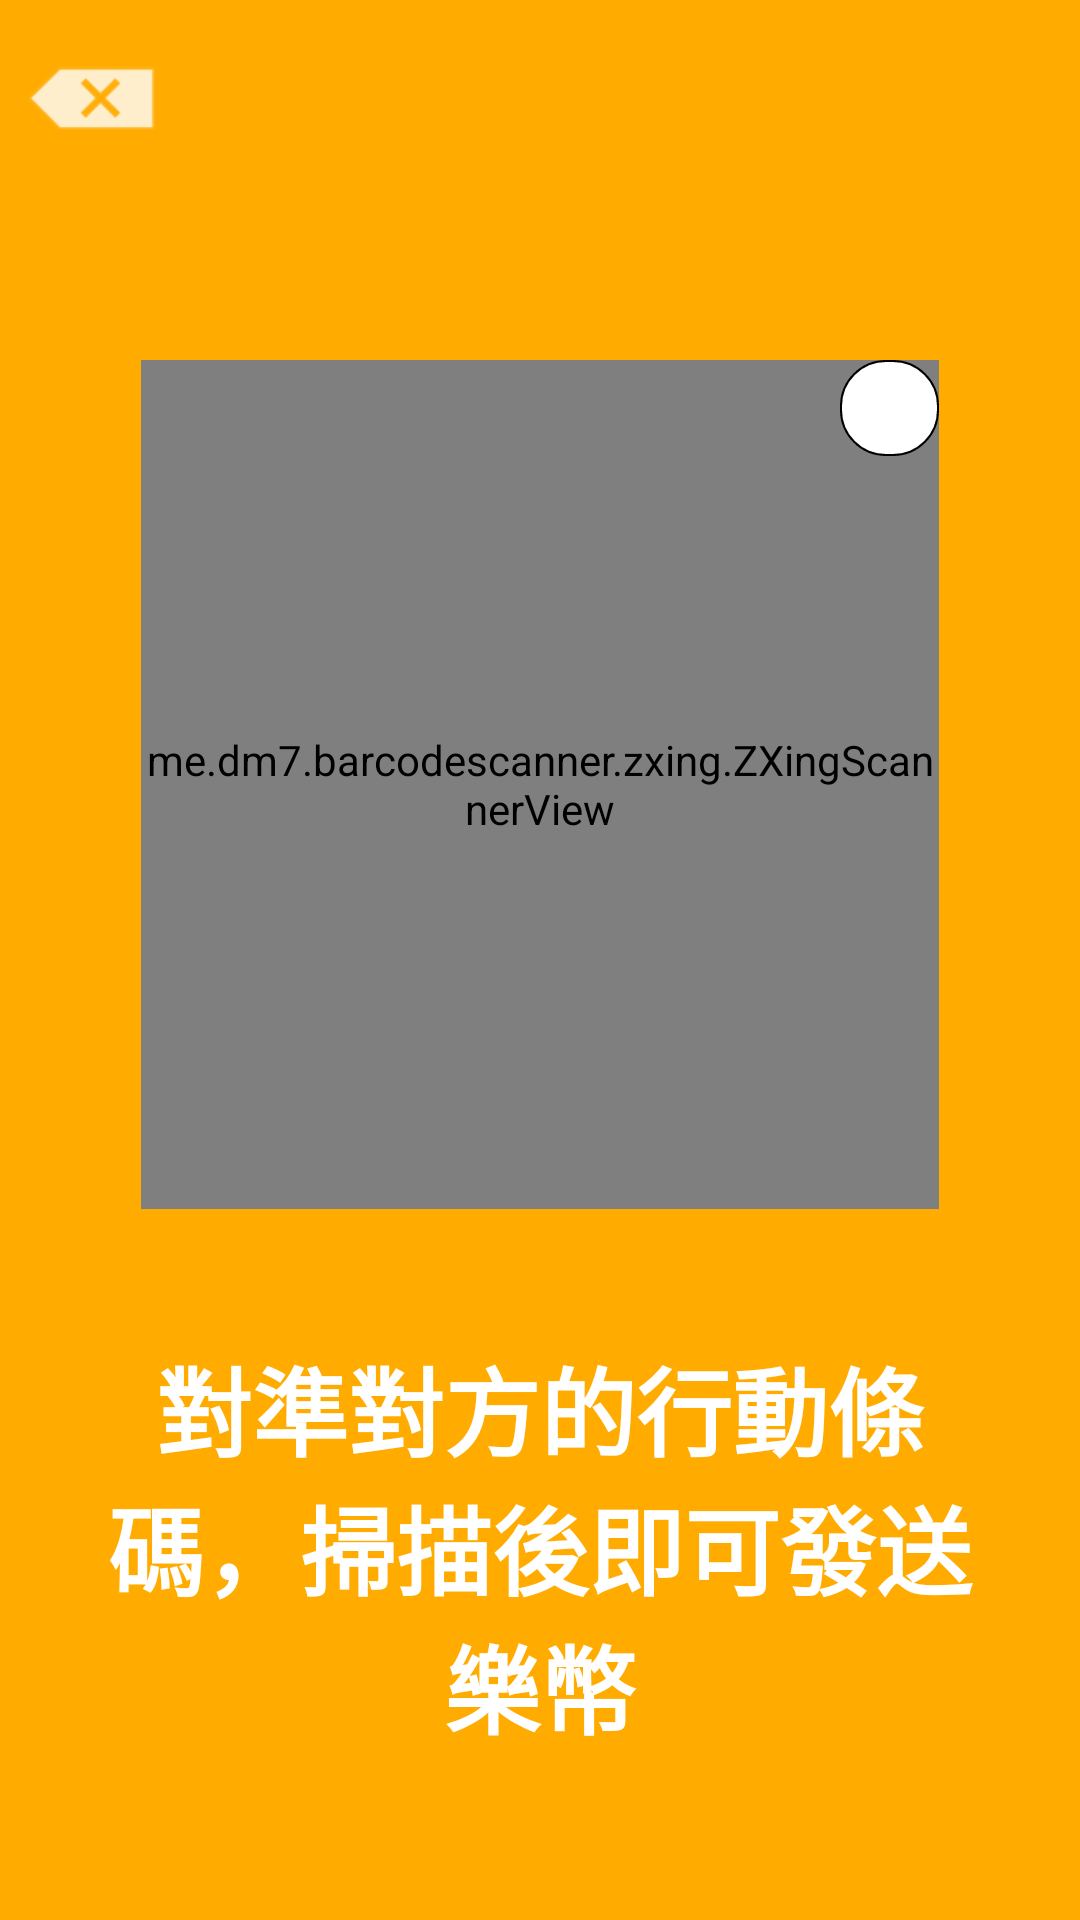

Where icons sit on this 1080*1920 app screen, as (x1, y1, x2, y2):
delete: (30, 69, 154, 129)
